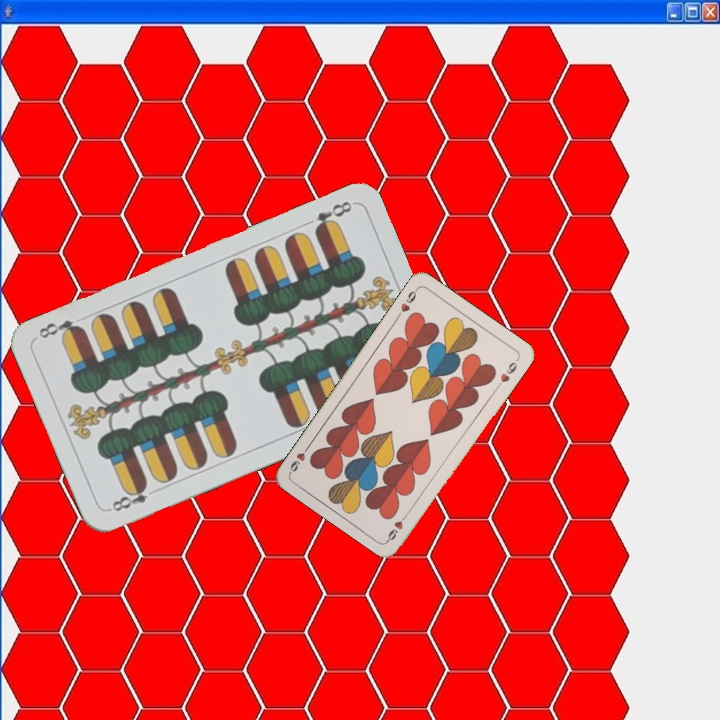E8: (310, 197, 355, 236), (105, 479, 151, 514)
H9: (383, 508, 412, 543), (393, 284, 421, 320)
